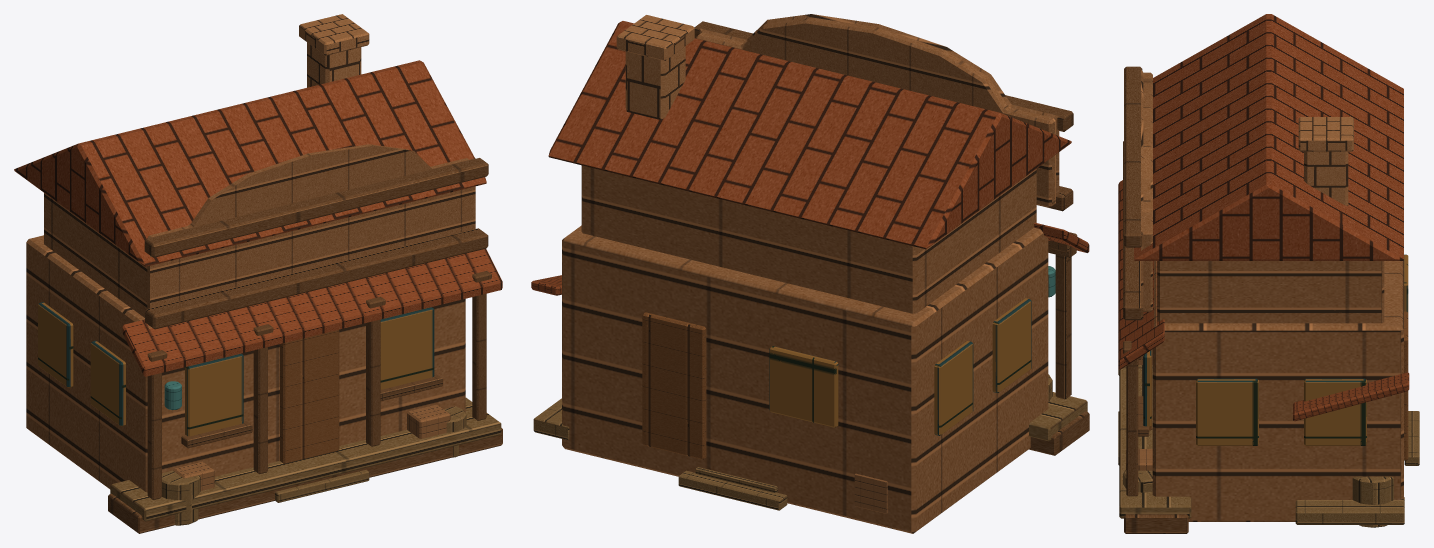
Rendered from general-store.glb.
The picture shows the model from 3 angles, left to right: view 1: azimuth 30°, elevation 25°; view 2: azimuth 150°, elevation 25°; view 3: azimuth 270°, elevation 25°; orthographic projection. The views are drawn at different scales.
Parts seen in each view (by area): view 1: GeneralStoreFullWrap; view 2: GeneralStoreFullWrap; view 3: GeneralStoreFullWrap.
Boxes of the visible parts, <box> form: GeneralStoreFullWrap: <box>14,14,502,533</box>; GeneralStoreFullWrap: <box>531,14,1089,533</box>; GeneralStoreFullWrap: <box>1118,14,1419,533</box>.
Bounding box in the file's own units: 4.7 × 4.44 × 3.26.
Materials: 1 (1 with a texture image).
